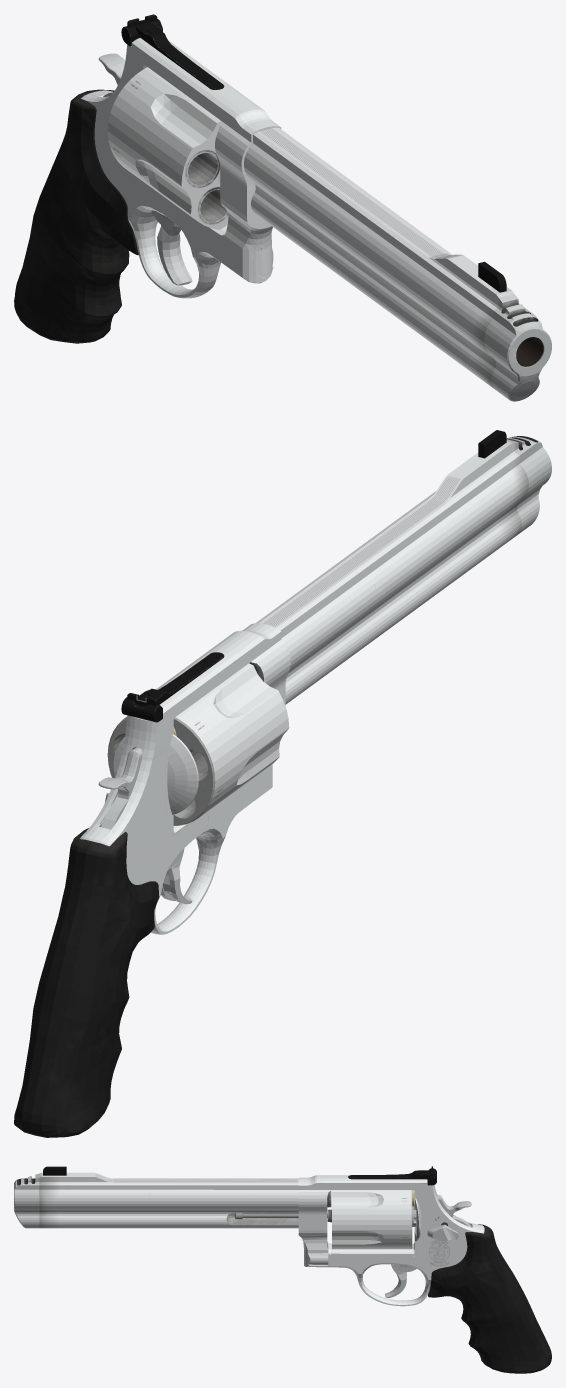
Rendered from Gun Smith And Wesson 500 Magnum N121119.obj.
3 views of the same model, one above another, from view 1: azimuth 30°, elevation 25°; view 2: azimuth 150°, elevation 25°; view 3: azimuth 270°, elevation 25° (orthographic). The views are drawn at different scales.
Visible parts, largest first — view 1: Revolver; view 2: Revolver; view 3: Revolver.
Boxes of the visible parts, box(x1,y1,x2,y2) form: Revolver: box(14, 14, 551, 401); Revolver: box(14, 430, 551, 1137); Revolver: box(14, 1166, 551, 1373).
Bounding box in the file's own units: 9.2 × 30.37 × 73.88.
